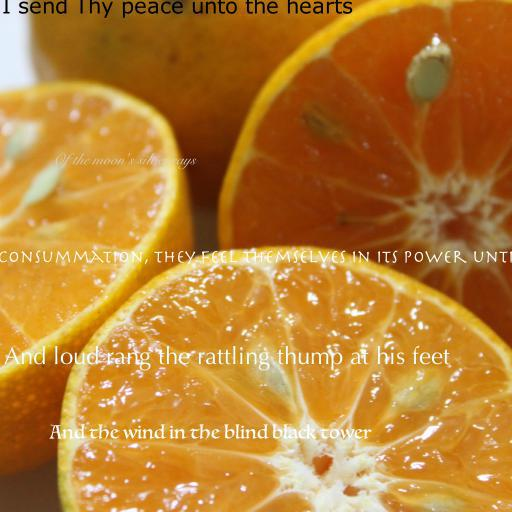Herculanum: (0, 250, 512, 265)
Luminari: (49, 424, 371, 440)
Optima: (4, 345, 450, 371)
Snell Roundhand: (52, 152, 196, 170)
Verdana: (1, 0, 353, 18)
